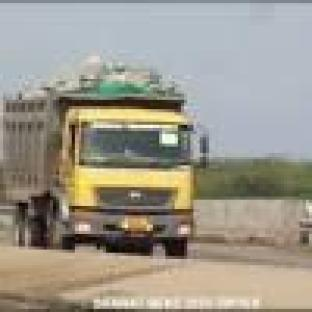Vehicle: (5, 67, 229, 276)
